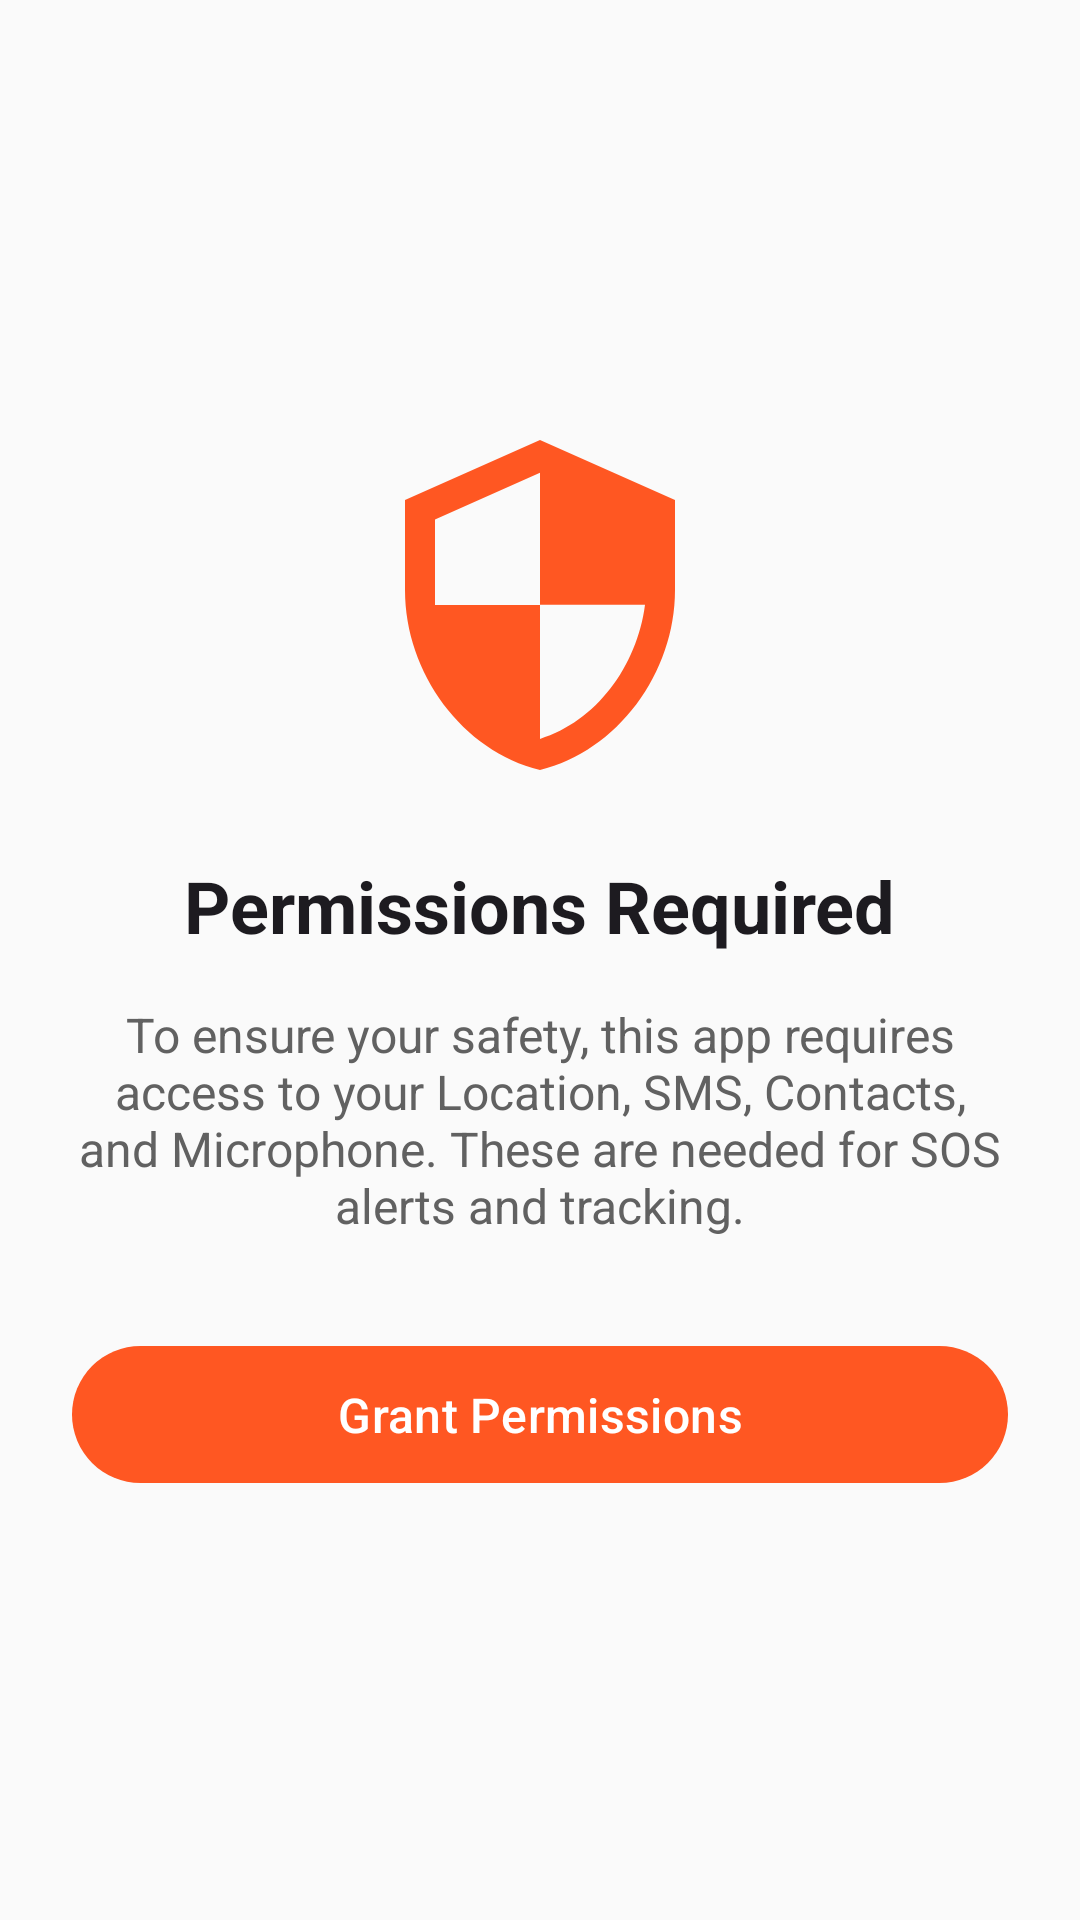

Where icons sit on this 1080px x 1920px app screen, as rect(x1, y1, x2, y2):
security: rect(405, 440, 675, 770)
